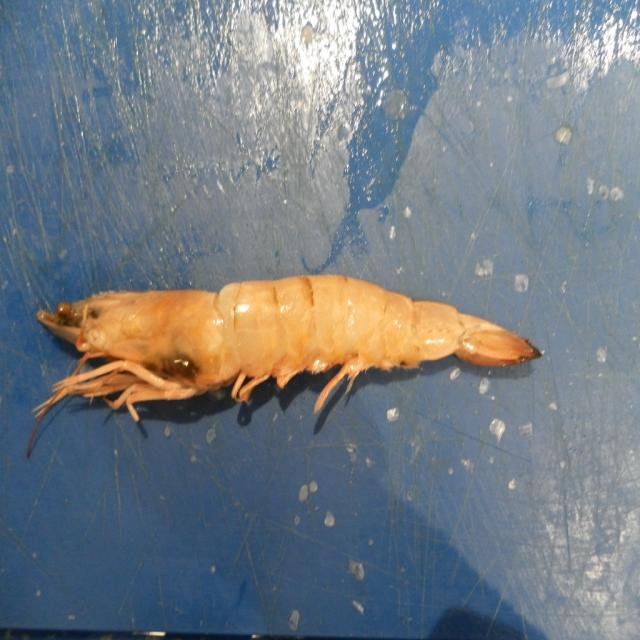Shrimp-karides-: (32, 275, 544, 432)
